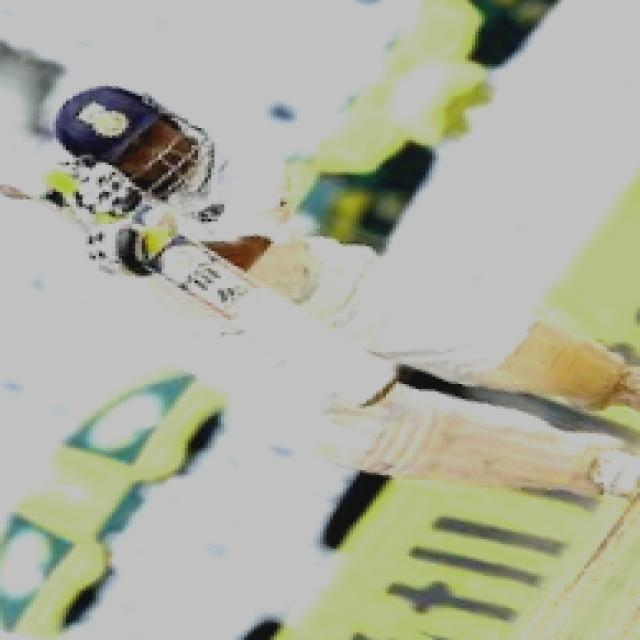toe: (313, 352, 414, 413)
